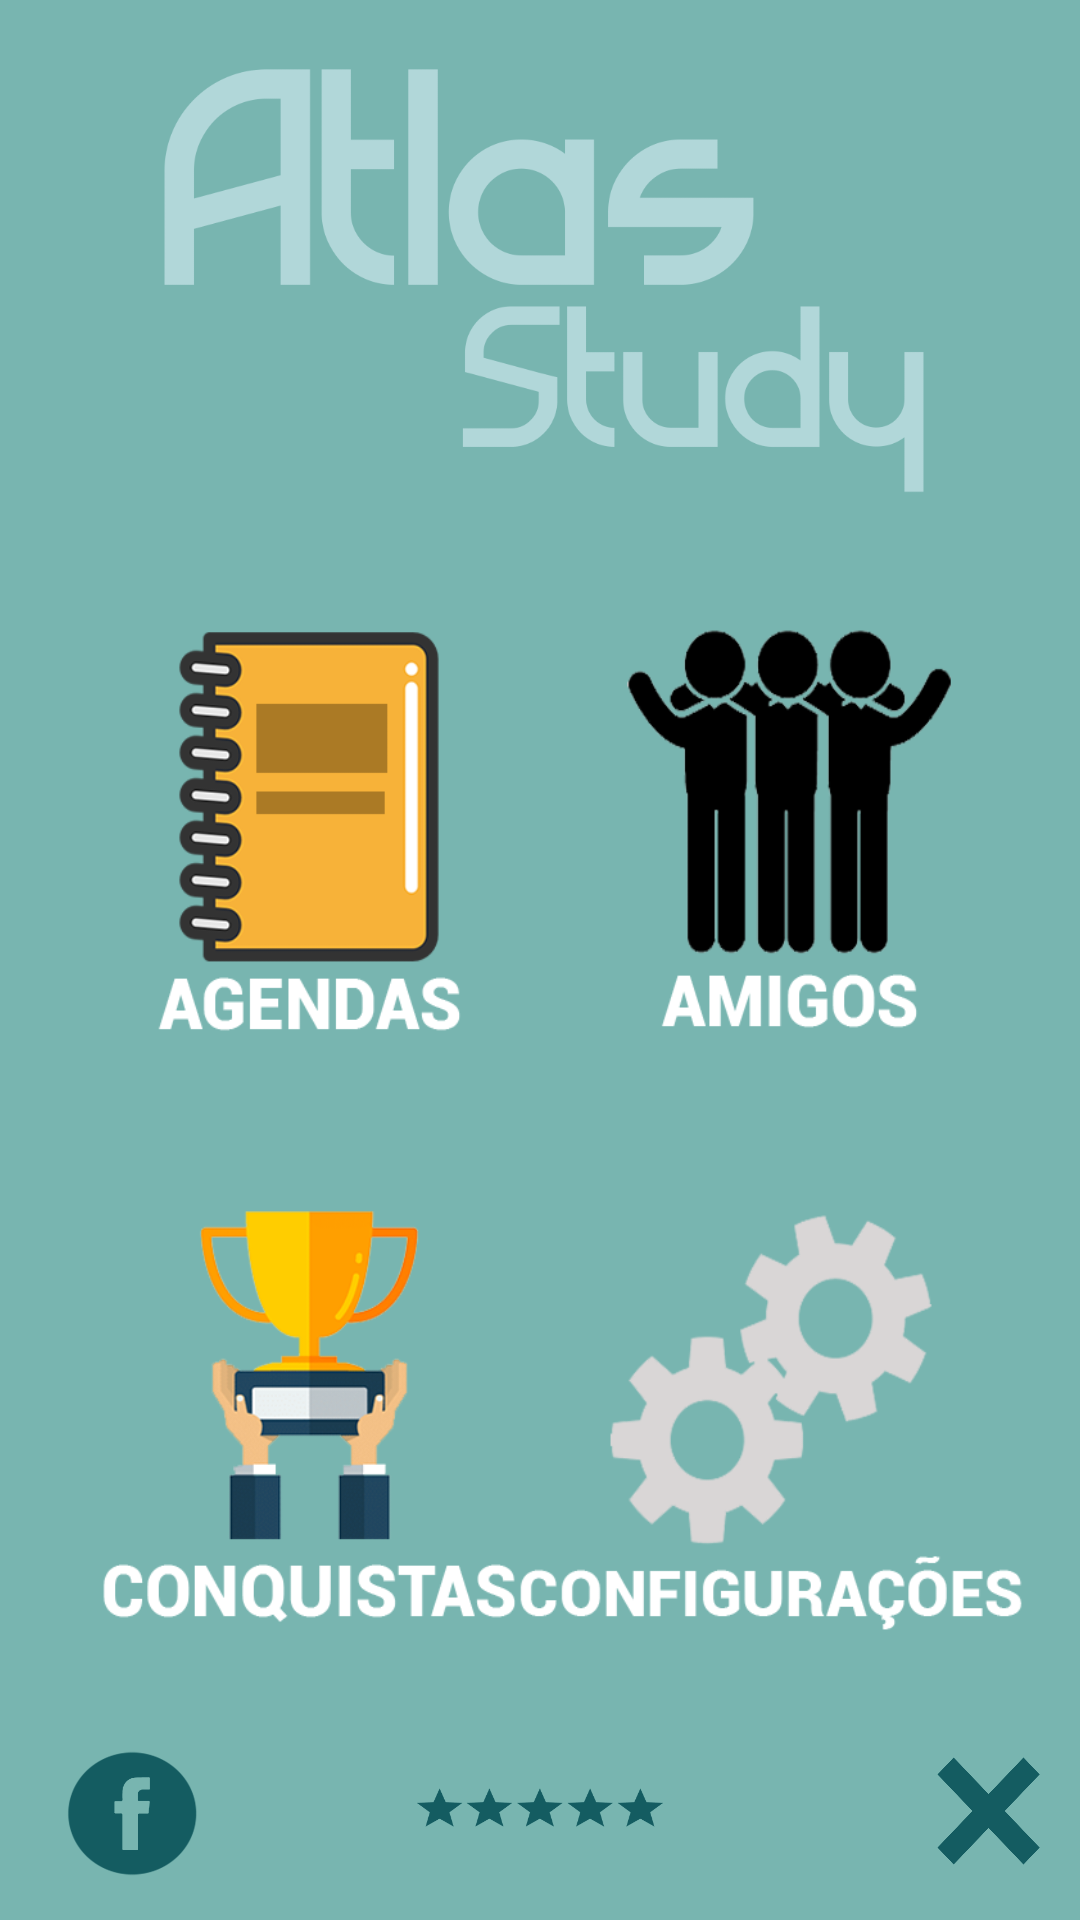

Icon click points for this 1080 x 1920 phone screenshot, format [x,y]:
btnsair: [989,1811]
